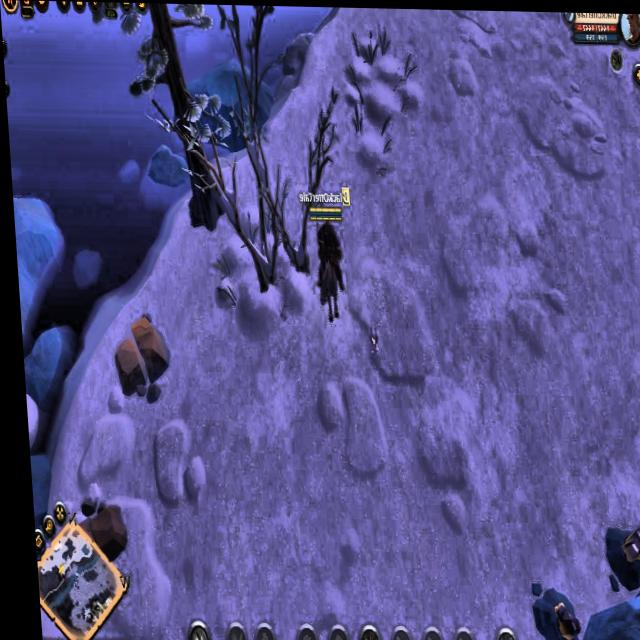copperore: (595, 518, 640, 589), (523, 585, 577, 640)
limestone: (107, 312, 169, 408), (68, 498, 121, 559)
